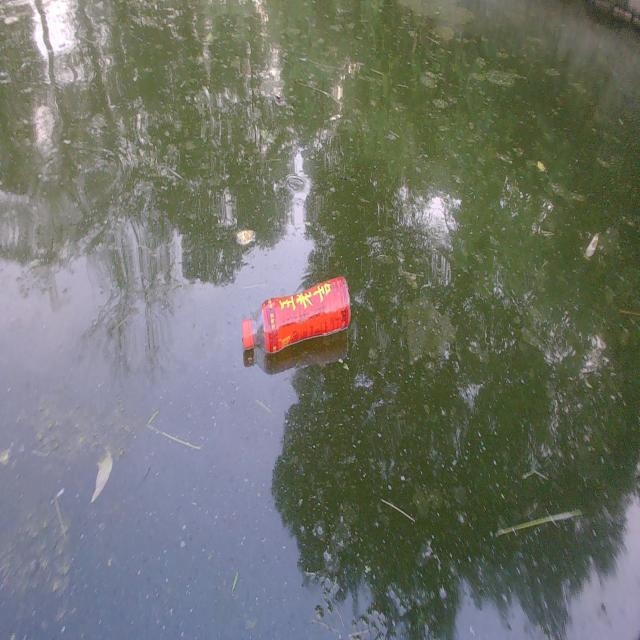garbage: (241, 274, 351, 355)
